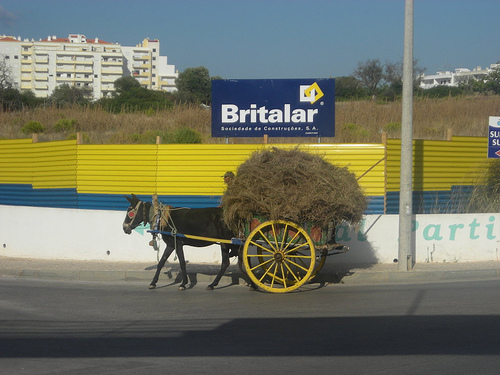background: (122, 193, 243, 291)
